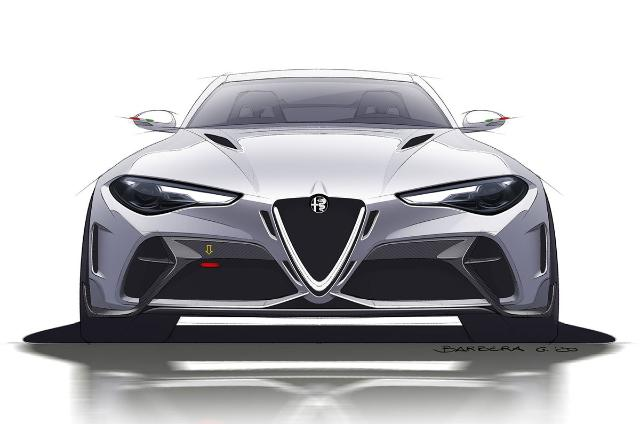alpha-romeo: (78, 67, 560, 345)
